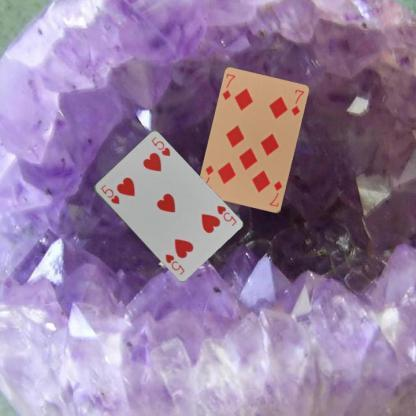5h: (214, 203, 238, 228), (99, 182, 121, 205)
7d: (267, 178, 284, 209), (220, 71, 236, 102)
